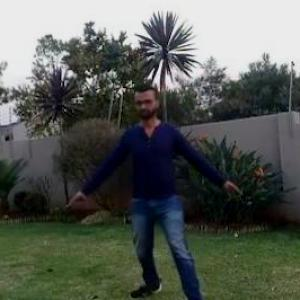land: (57, 73, 246, 299)
